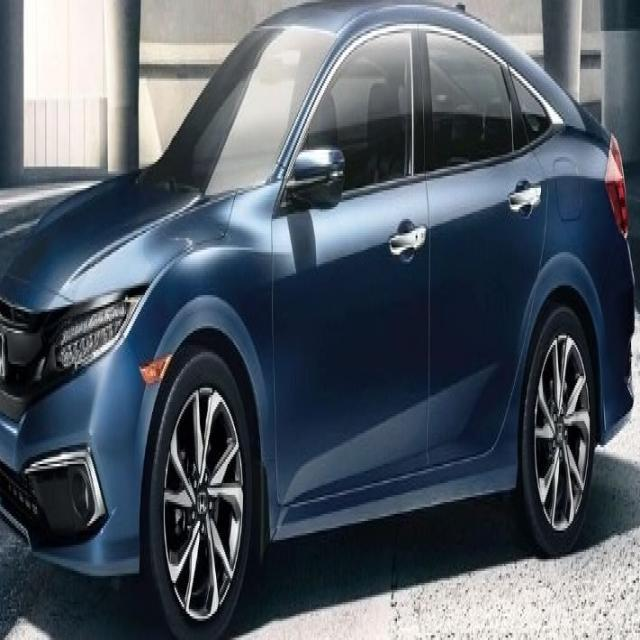blue: (2, 9, 640, 583)
